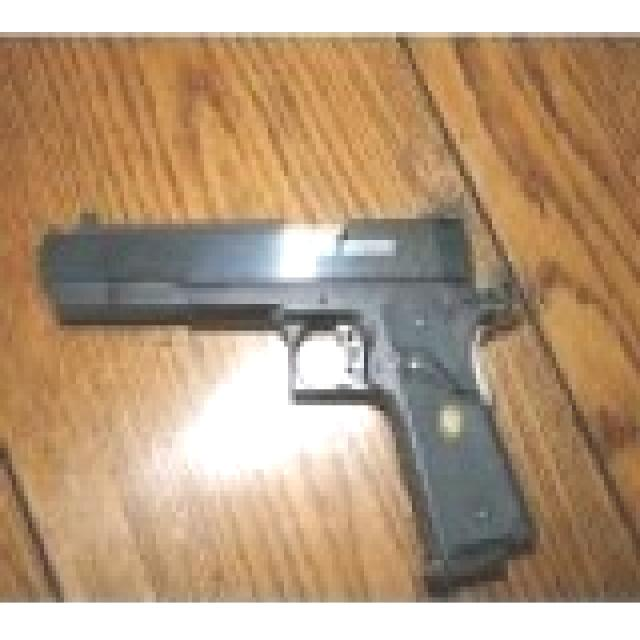pistol: (40, 197, 548, 587)
